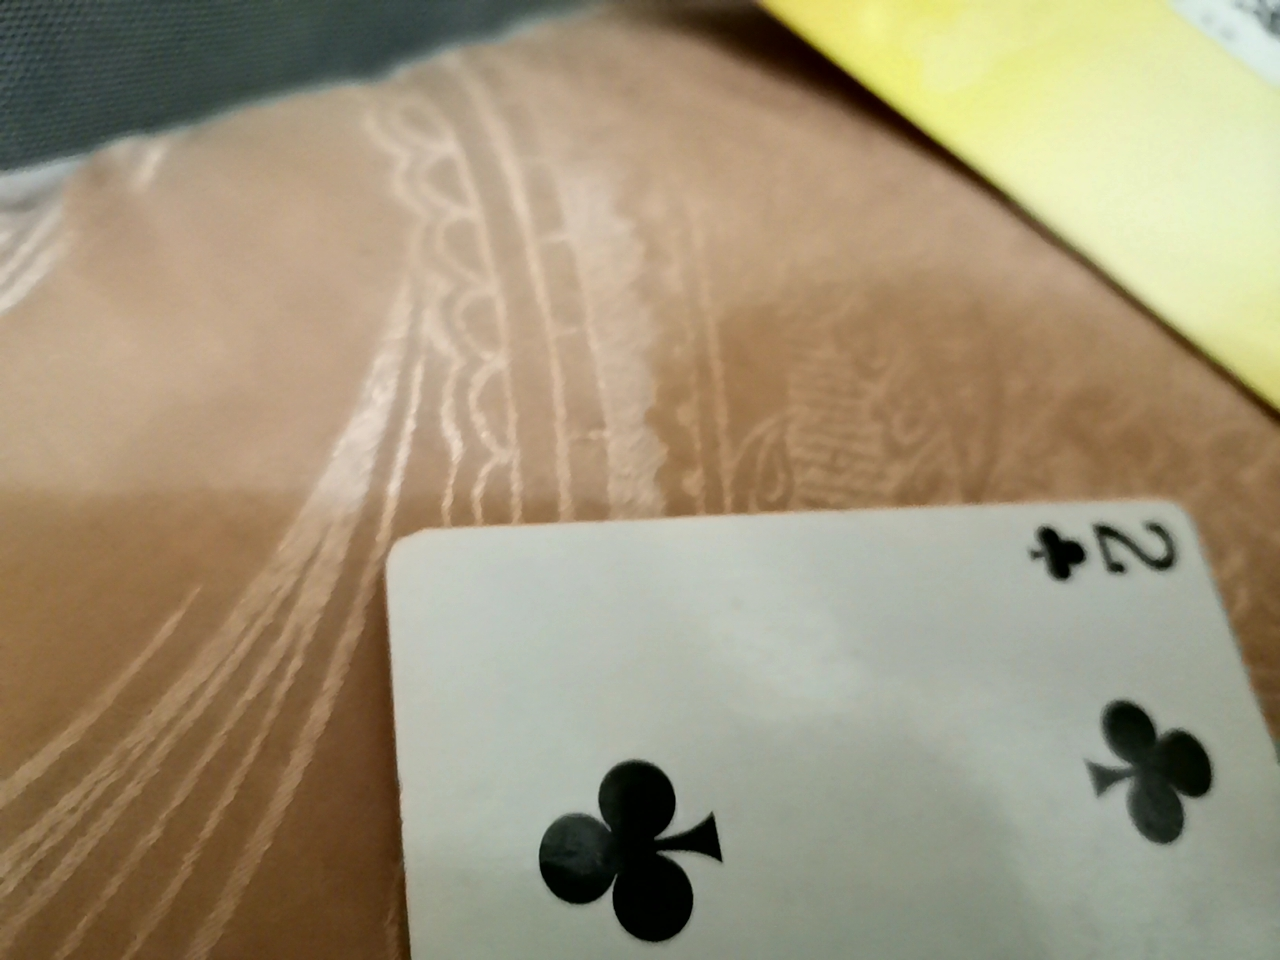mh 2: (389, 492, 1273, 955)
